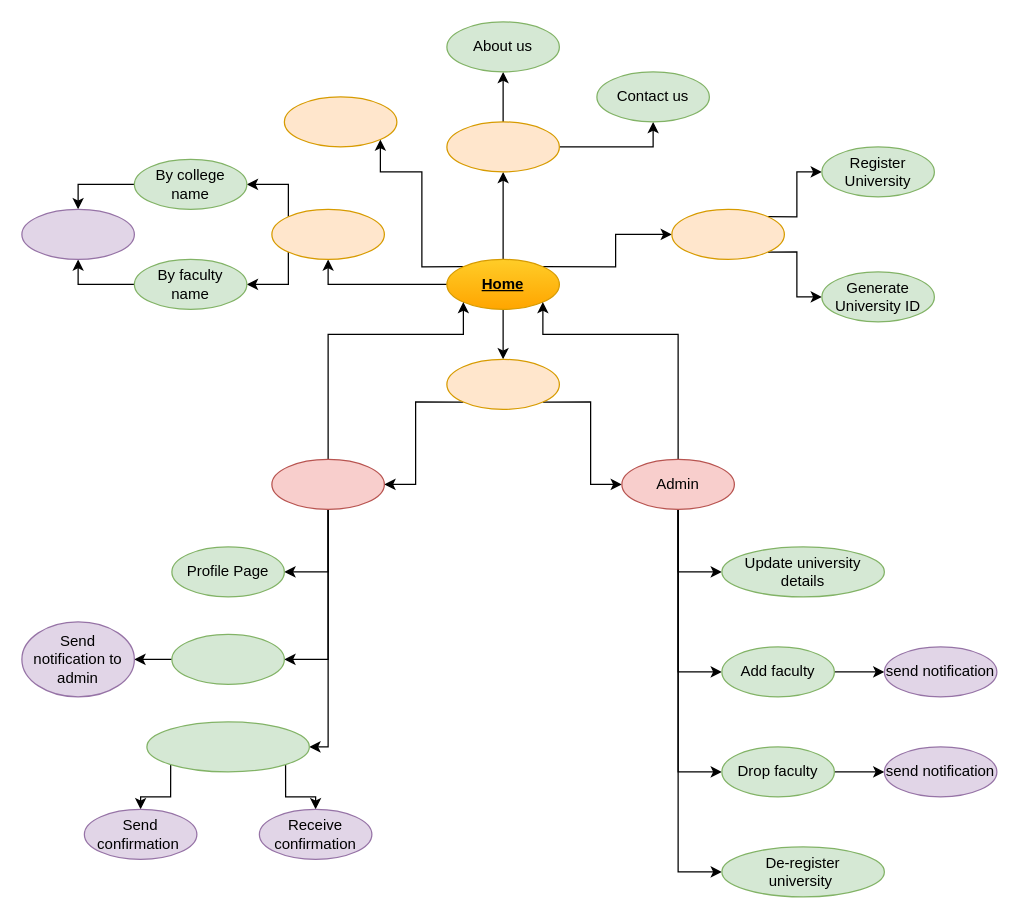
The diagram is 1019 pixels wide and 919 high, and some of its shapes have lost their labels. Here are the shapes that lost their labels. From the top down, the centre of each, then its label:
[340,121]: Top colleges
[502,146]: Footer
[77,233]: Filtering
[327,233]: Search
[727,233]: Sign UP for Admin
[502,383]: Sign IN
[327,483]: Faculty
[227,658]: Update details
[227,746]: De-register from university
